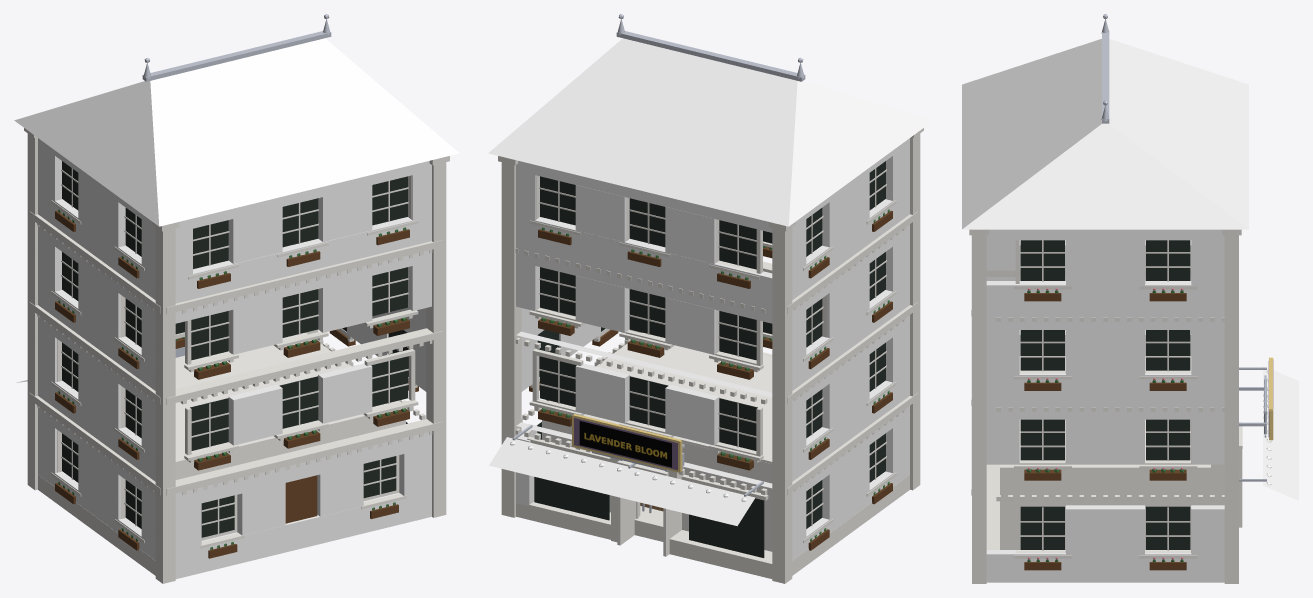
The model's file is gedung-g06-blender-v2.glb.
3 views of the same model, side by side, from view 1: azimuth 30°, elevation 25°; view 2: azimuth 150°, elevation 25°; view 3: azimuth 270°, elevation 25° (orthographic).
Parts seen in each view (by area): view 1: Cube, Cube.006, Roof, Cube.018, Int_Shell, Cube.009, Cone, Icosphere; view 2: Cube, Roof, Cube.006, Cube.018, Icosphere.295, Int_Shell, Cube.009, Sign_Text, Cone, Int_Furniture, Icosphere, Sign_Board; view 3: Cube, Roof, Cube.006, Cube.018, Int_Shell, Icosphere.295, Cube.009, Cone, Int_Furniture, Icosphere.
Boxes of the visible parts, x1,y1,x2,y2 form: Cube: (38, 138, 431, 578); Cube.006: (24, 128, 449, 583); Roof: (14, 38, 459, 226); Cube.018: (62, 161, 409, 537); Int_Shell: (175, 332, 405, 540); Cube.009: (55, 210, 418, 558); Cone: (142, 14, 331, 357); Icosphere: (58, 209, 406, 549); Cube: (516, 138, 909, 560); Roof: (488, 38, 933, 226); Cube.006: (498, 128, 923, 583); Cube.018: (534, 161, 885, 557); Icosphere.295: (489, 437, 754, 526); Int_Shell: (542, 332, 772, 551); Cube.009: (529, 210, 892, 550); Sign_Text: (579, 421, 671, 467); Cone: (512, 14, 805, 513); Int_Furniture: (617, 460, 681, 556); Icosphere: (541, 209, 889, 541); Sign_Board: (574, 417, 677, 470); Cube: (986, 229, 1224, 582); Roof: (962, 39, 1248, 229); Cube.006: (969, 229, 1241, 583); Cube.018: (1020, 240, 1190, 549); Int_Shell: (1000, 356, 1210, 549); Icosphere.295: (1263, 366, 1298, 500); Cube.009: (1024, 293, 1186, 570); Cone: (1101, 14, 1267, 481); Int_Furniture: (1211, 422, 1242, 527); Icosphere: (1026, 290, 1184, 562).
Bounding box in the file's own units: 10.4 × 15.34 × 10.21.
Materials: 27 (1 with a texture image).
